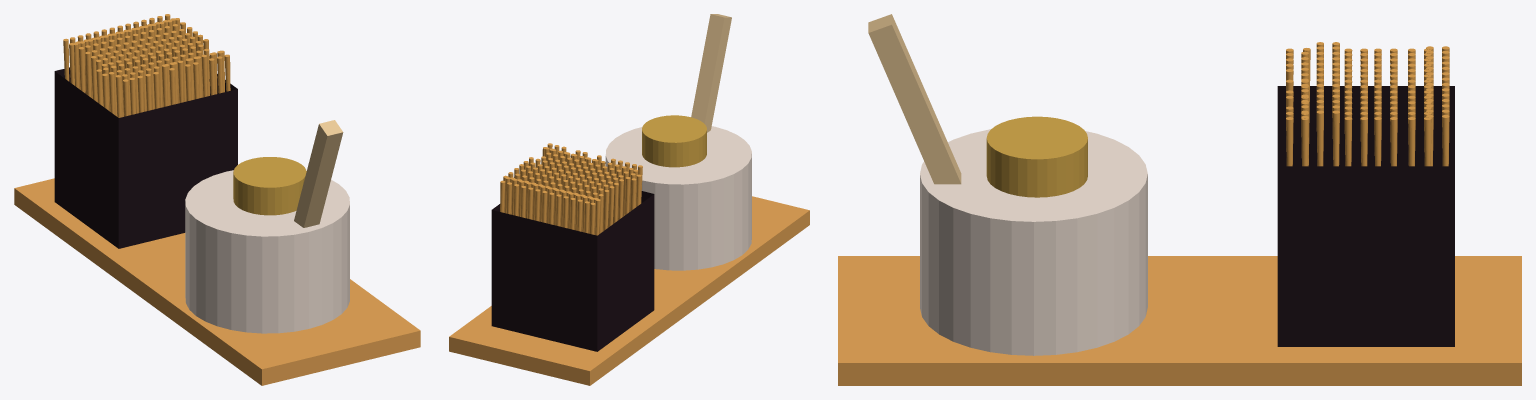
Rendered from 調味料.fbx.
3 views of the same model, side by side, from view 1: azimuth 30°, elevation 25°; view 2: azimuth 150°, elevation 25°; view 3: azimuth 270°, elevation 25° (orthographic). The views are drawn at different scales.
Visible parts, largest first — view 1: Cylinder.002; view 2: Cylinder.002; view 3: Cylinder.002.
Part boxes in pixels (bbox=[...]): Cylinder.002: bbox=[14, 14, 420, 385]; Cylinder.002: bbox=[449, 14, 809, 385]; Cylinder.002: bbox=[838, 14, 1521, 385].
Bounding box in the file's own units: 200 × 276 × 540.
